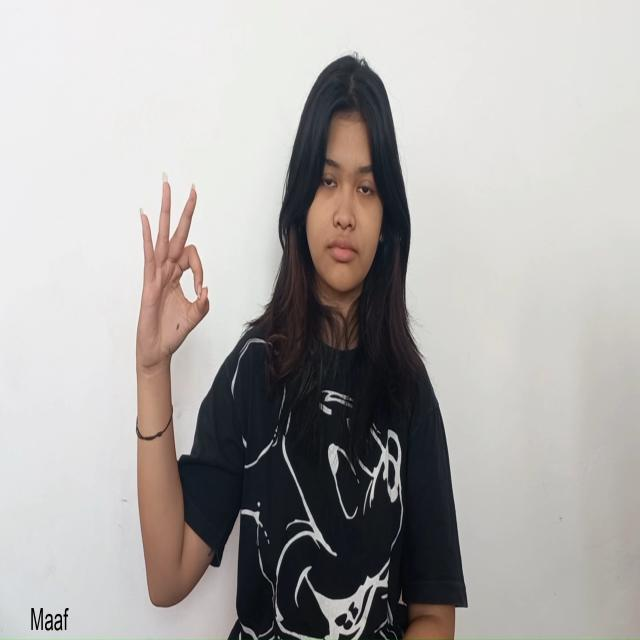Maaf -BISINDO-: (133, 167, 211, 400)
